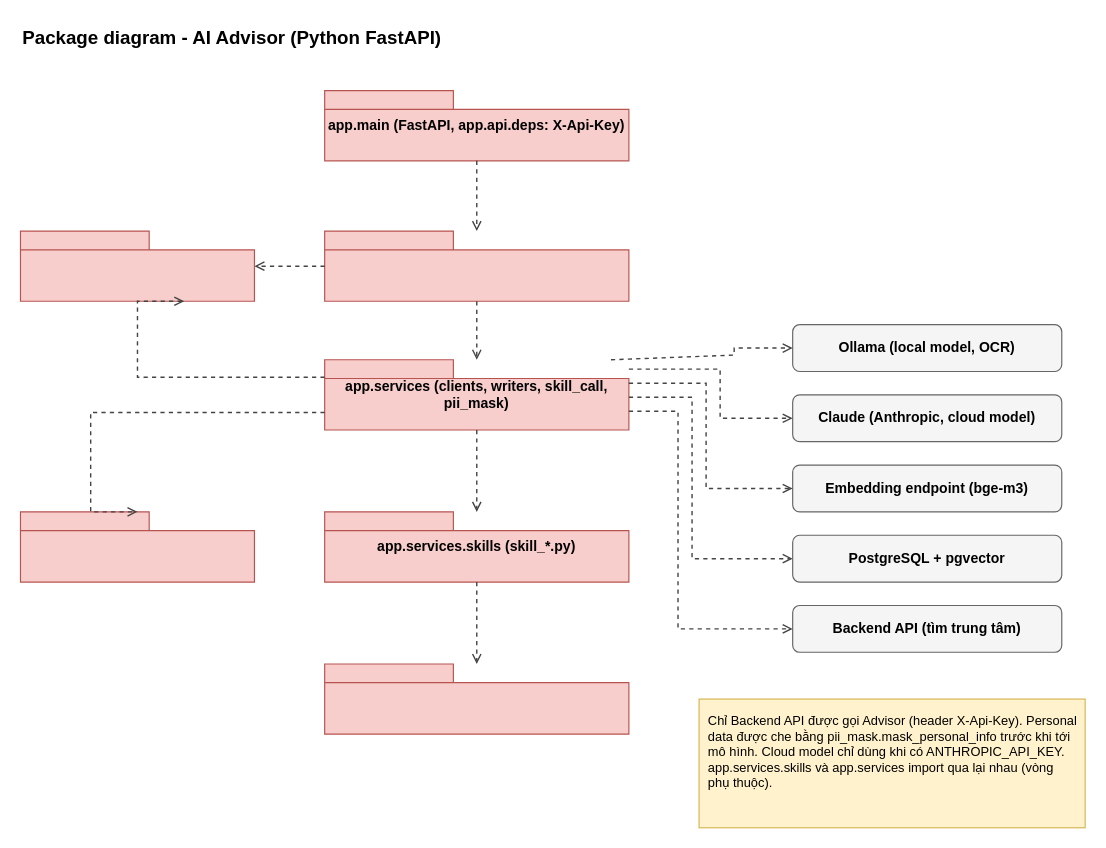
Image size: 1106x848. Some labels were removed from this diagram. Each missing label, with the centre of its shape:
"app.api.routes (chat, recommend, profile, health)" belongs at point 476,265.
"app.core (config, db, study_levels)" belongs at point 136,546.
"app.schemas (Pydantic, CamelModel)" belongs at point 136,265.
"app.skills (prompt files skill_*.md)" belongs at point 476,698.
